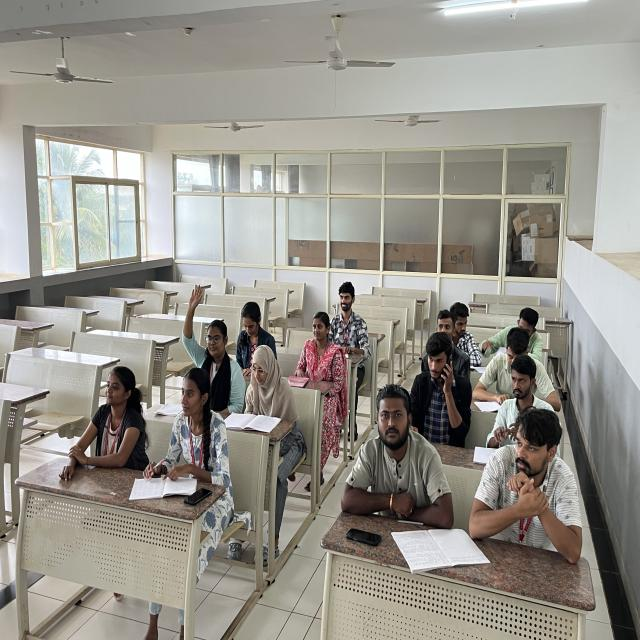Hand Rising: (180, 282, 244, 398)
Reading: (231, 343, 283, 433)
Using Phone: (410, 327, 469, 428)
